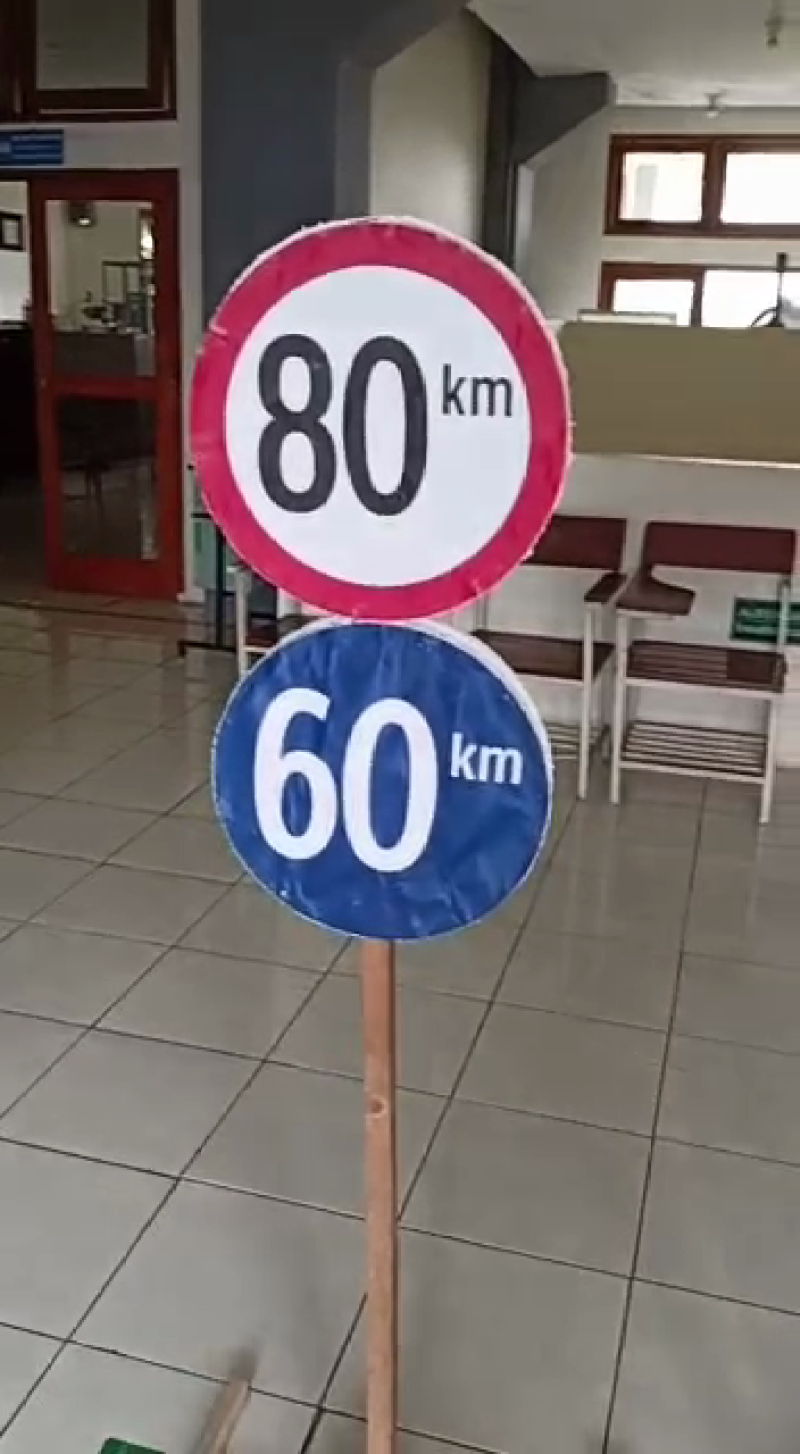batas maksimal 80kmperjam minimal 60kmperjam: (184, 196, 578, 951)
